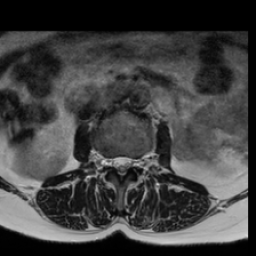CCS_normal: (117, 147, 125, 186)
LFS_normal: (132, 147, 140, 175)
LLS_normal: (125, 147, 132, 177)
RFS_normal: (103, 147, 110, 175)
RLS_normal: (110, 148, 117, 177)
